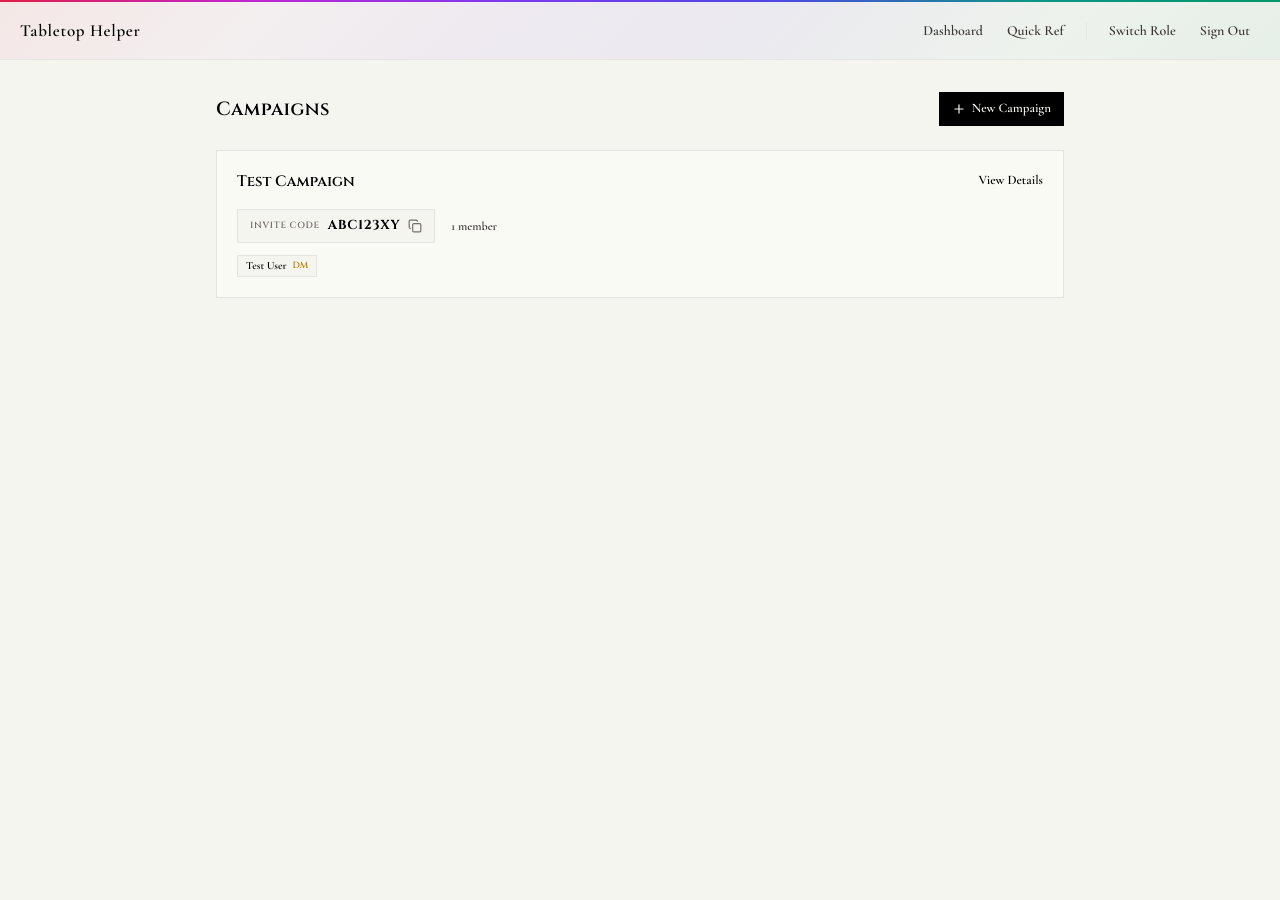
Test case: CampaignManagePage › shows create form on clicking New Campaign
Step 1. Click the button "New Campaign" → (1001, 109), box [939, 92, 1064, 126]
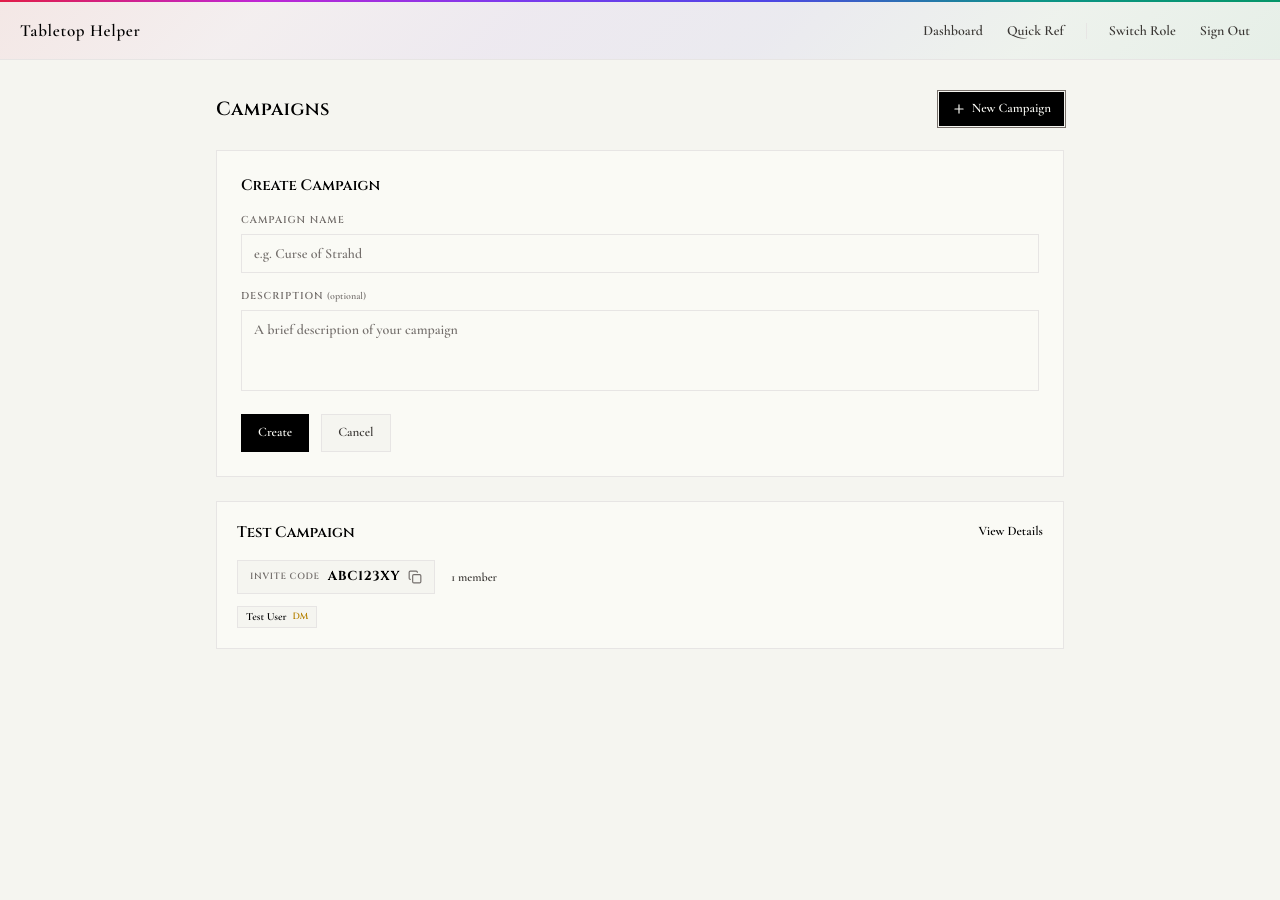
Check: the heading "Create Campaign" is shown, box [241, 174, 380, 196]
Check: the field with placeholder "e.g. Curse of Strahd" is shown, box [241, 234, 1039, 273]
